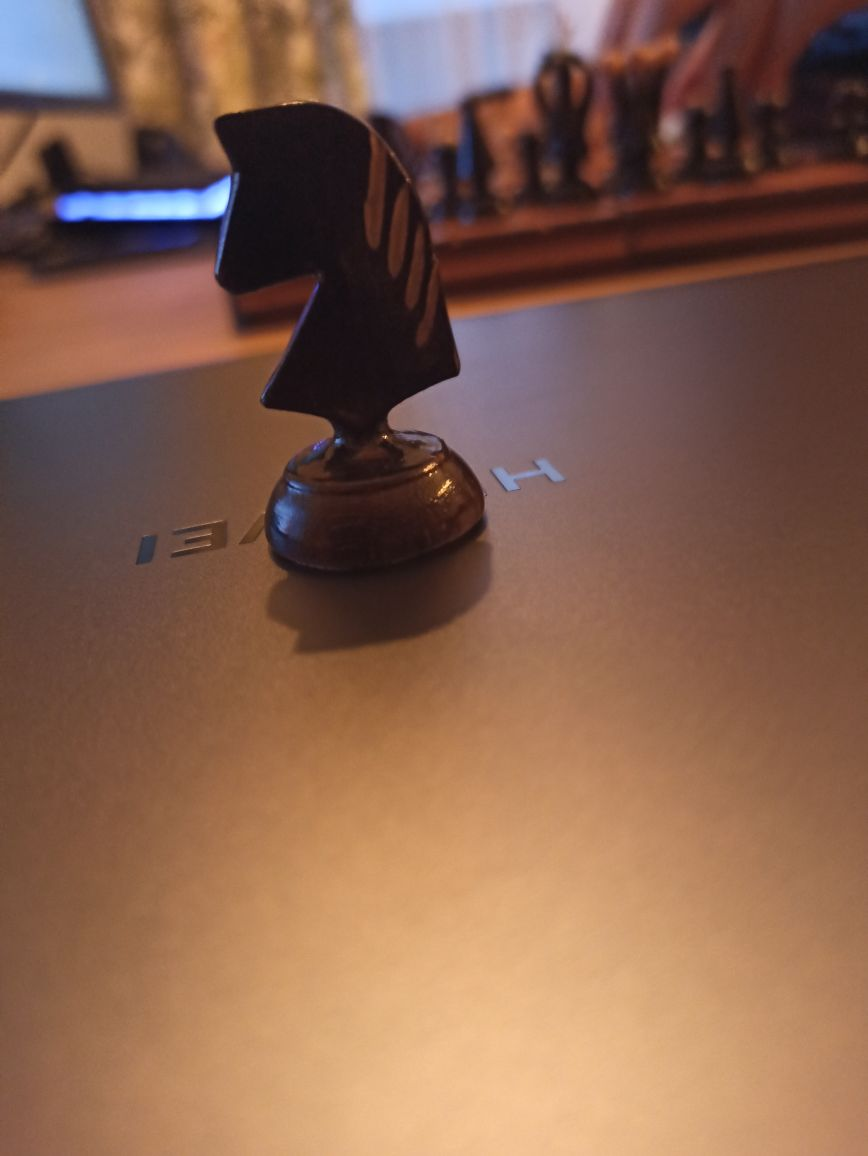bknight: (208, 97, 489, 575)
